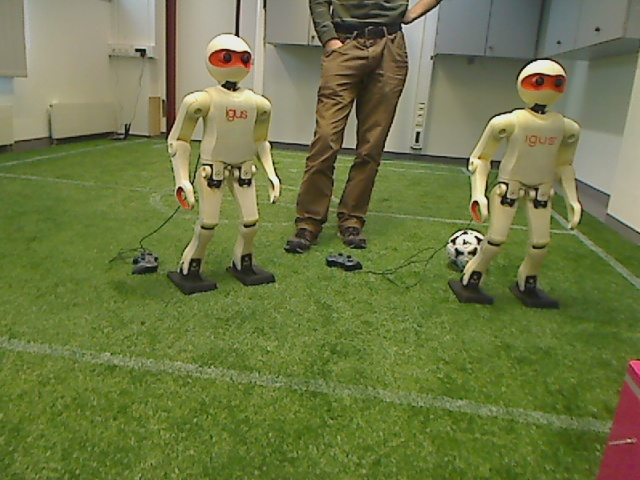ball: (444, 226, 487, 275)
robot: (459, 57, 584, 313), (166, 31, 286, 297)
